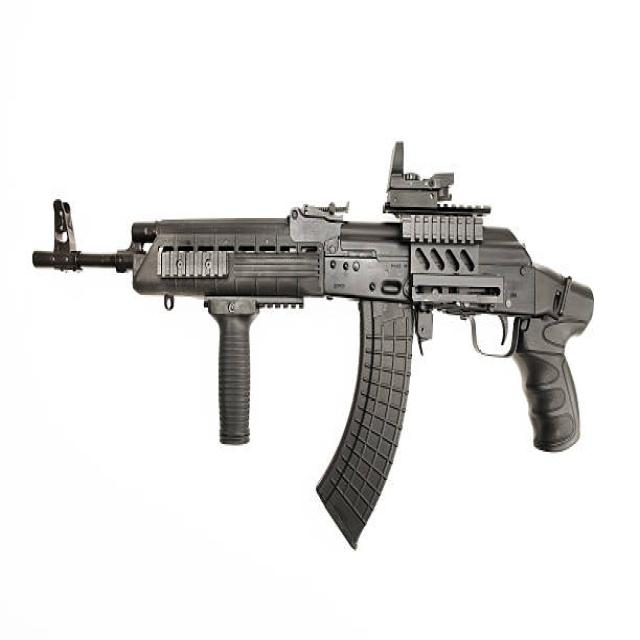rifle: (29, 138, 603, 554)
